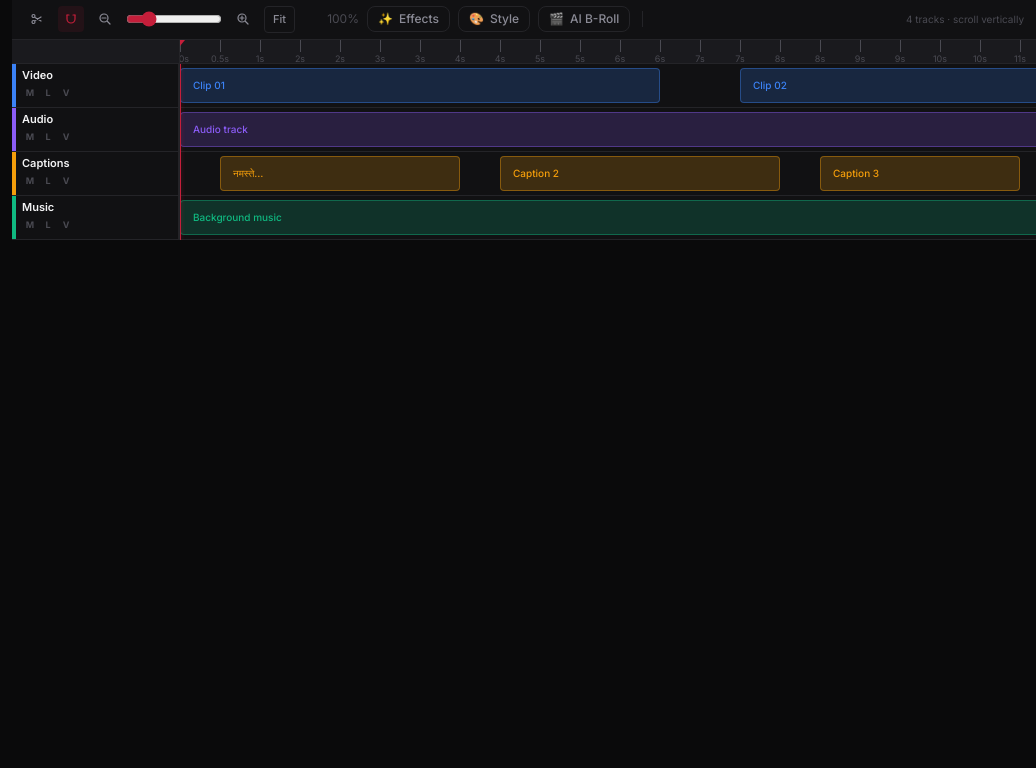
Test case: Timeline — undo toast › shows undo toast after a clip is deleted
Right-click the element with test id "clip-v1" at (420, 85), box [180,68,660,102]
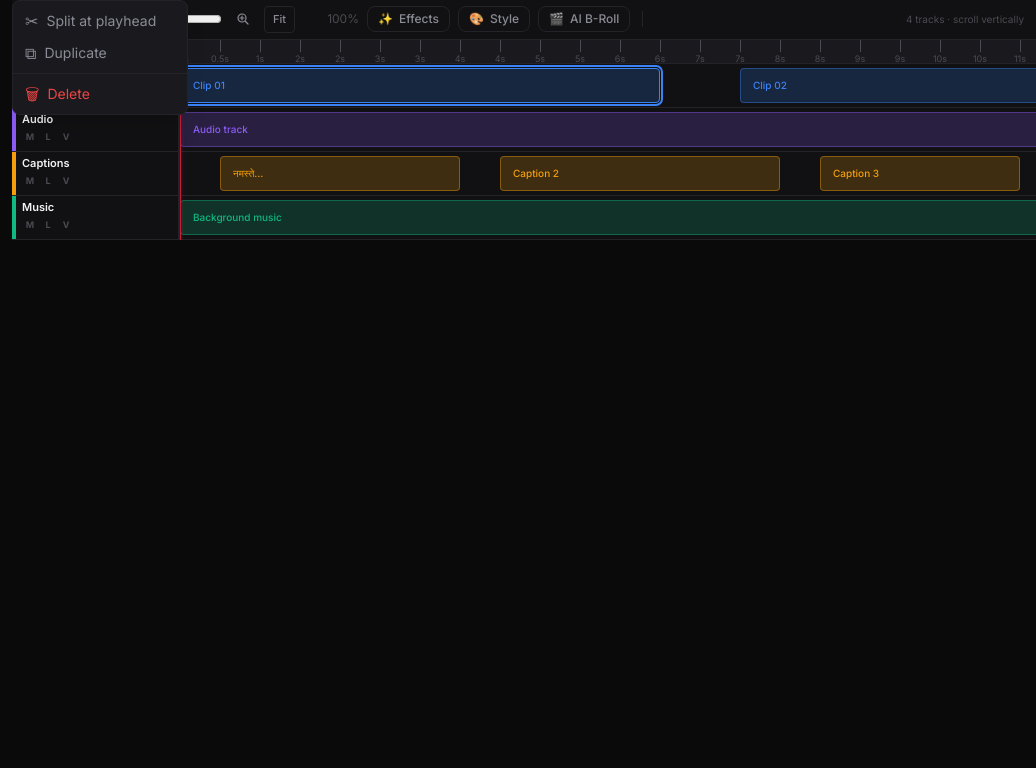
Click the button "🗑 Delete" at (100, 94), box [13,78,187,110]
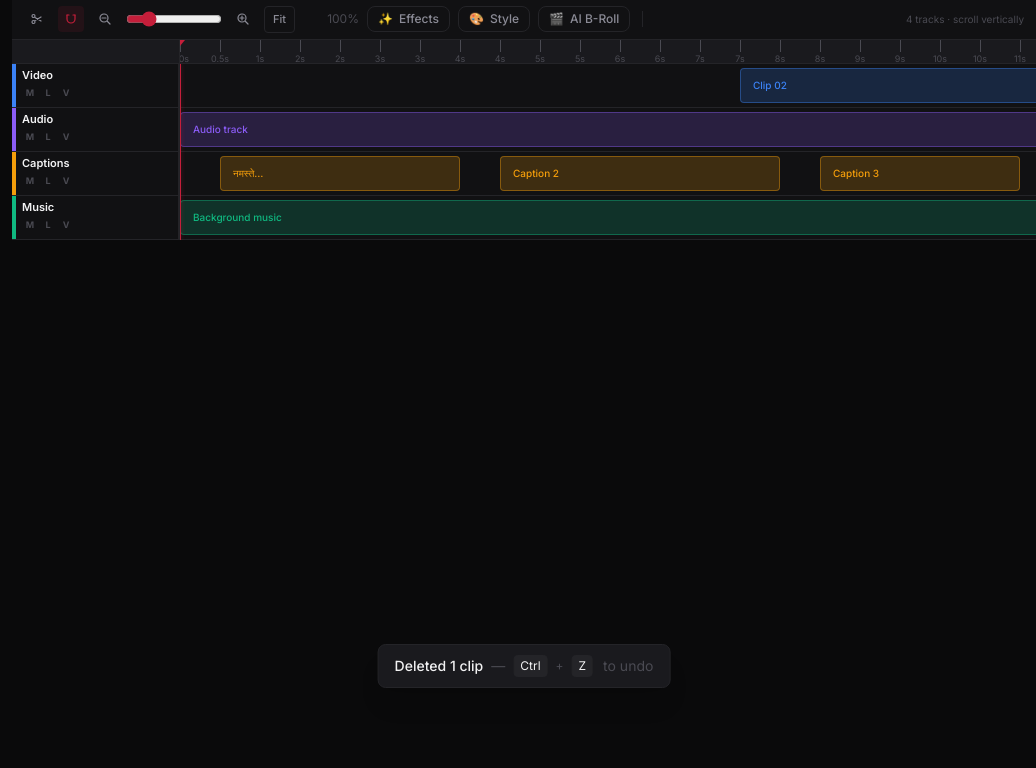
Now the message "Deleted 1 clip — Ctrl + Z to undo" is shown, box [378,644,670,688]
